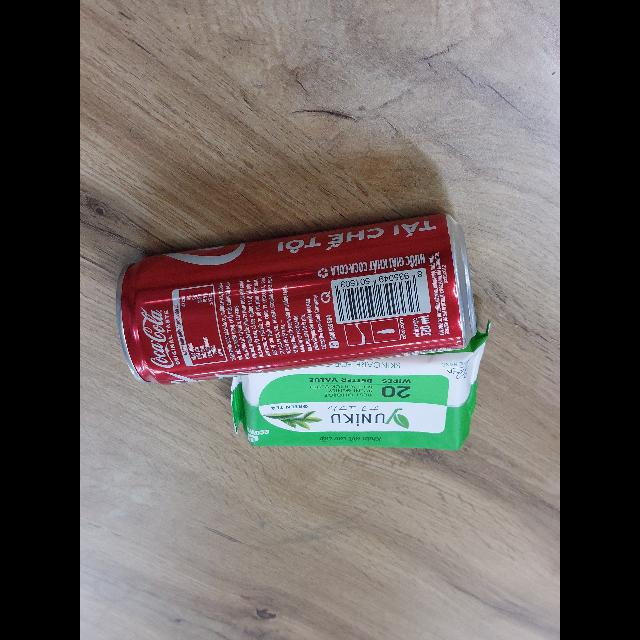coca_cola: (116, 214, 476, 386)
khan_giay: (231, 341, 484, 450)
